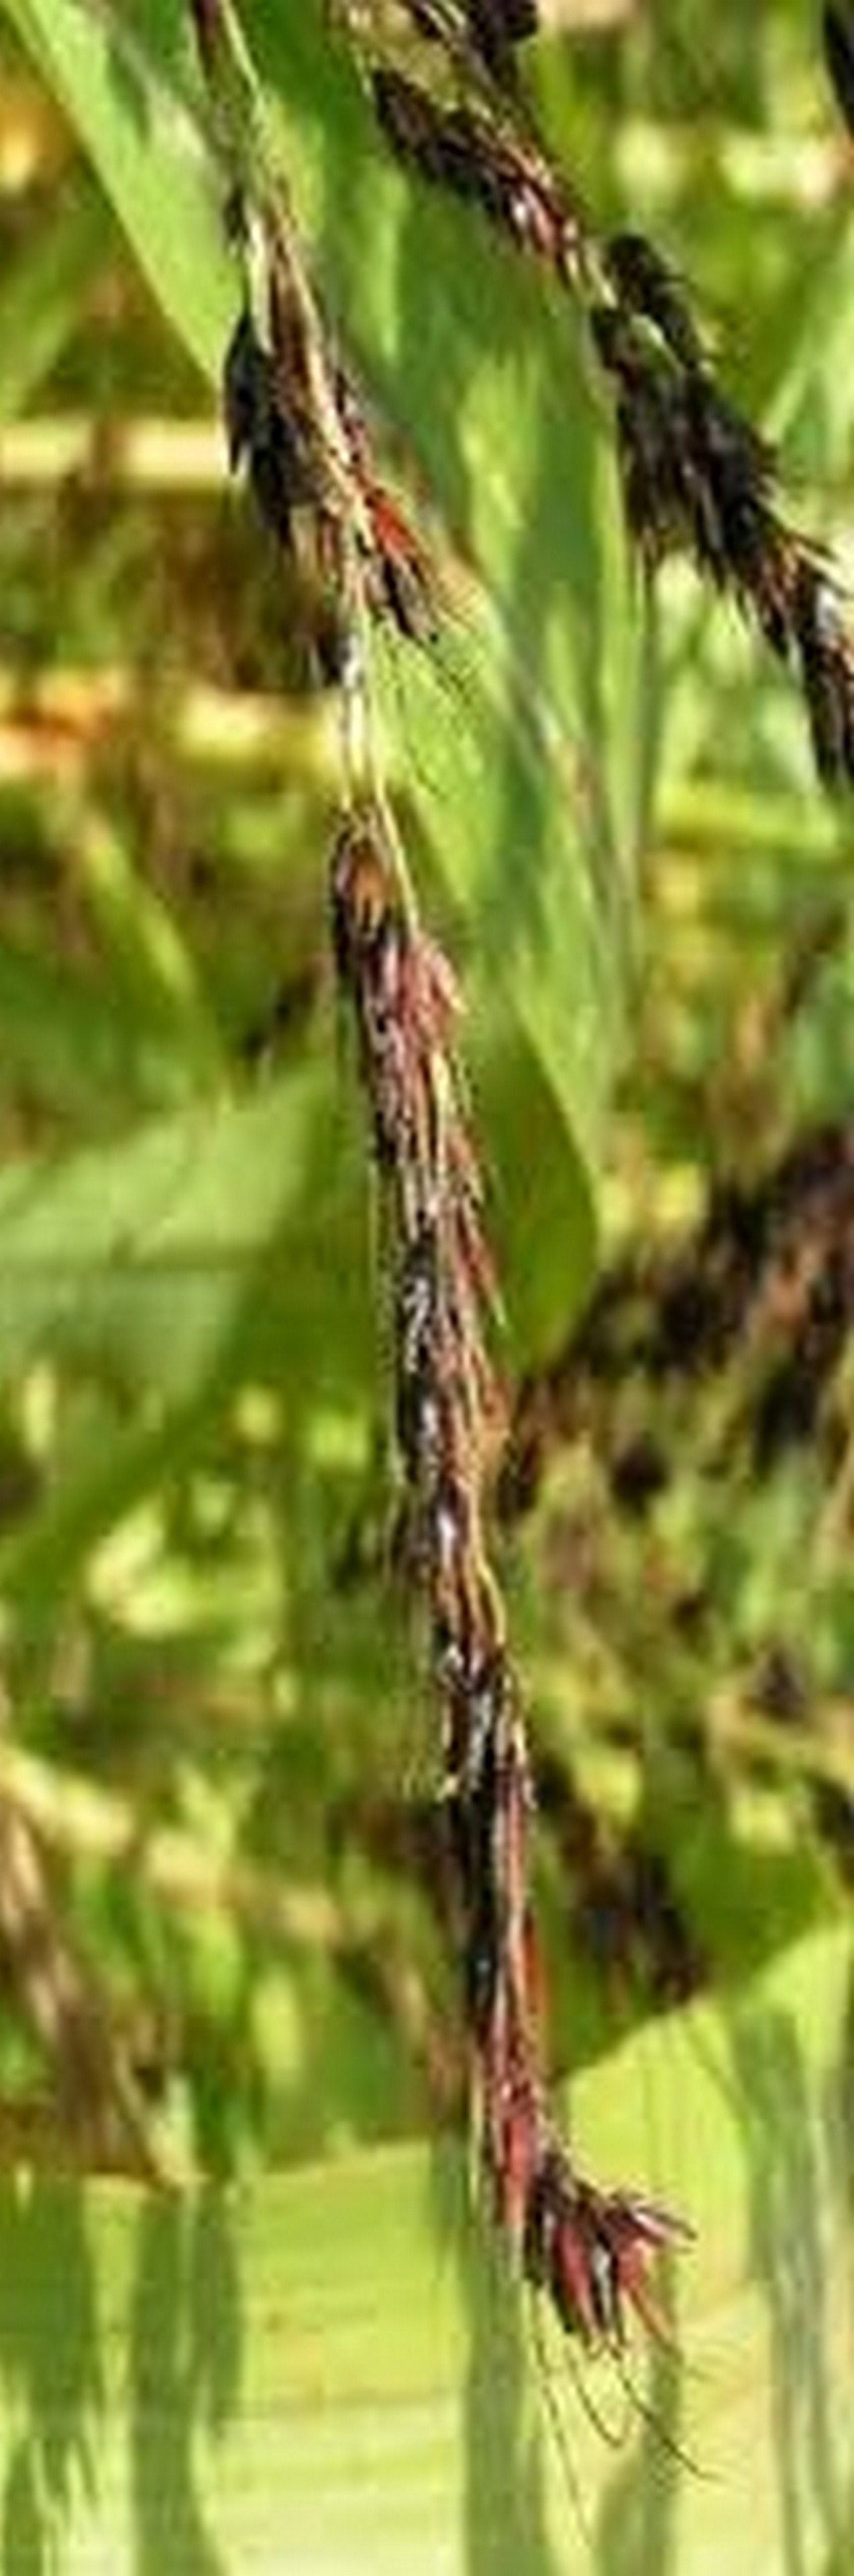Wheat Loose Smut: (278, 782, 736, 2389)
